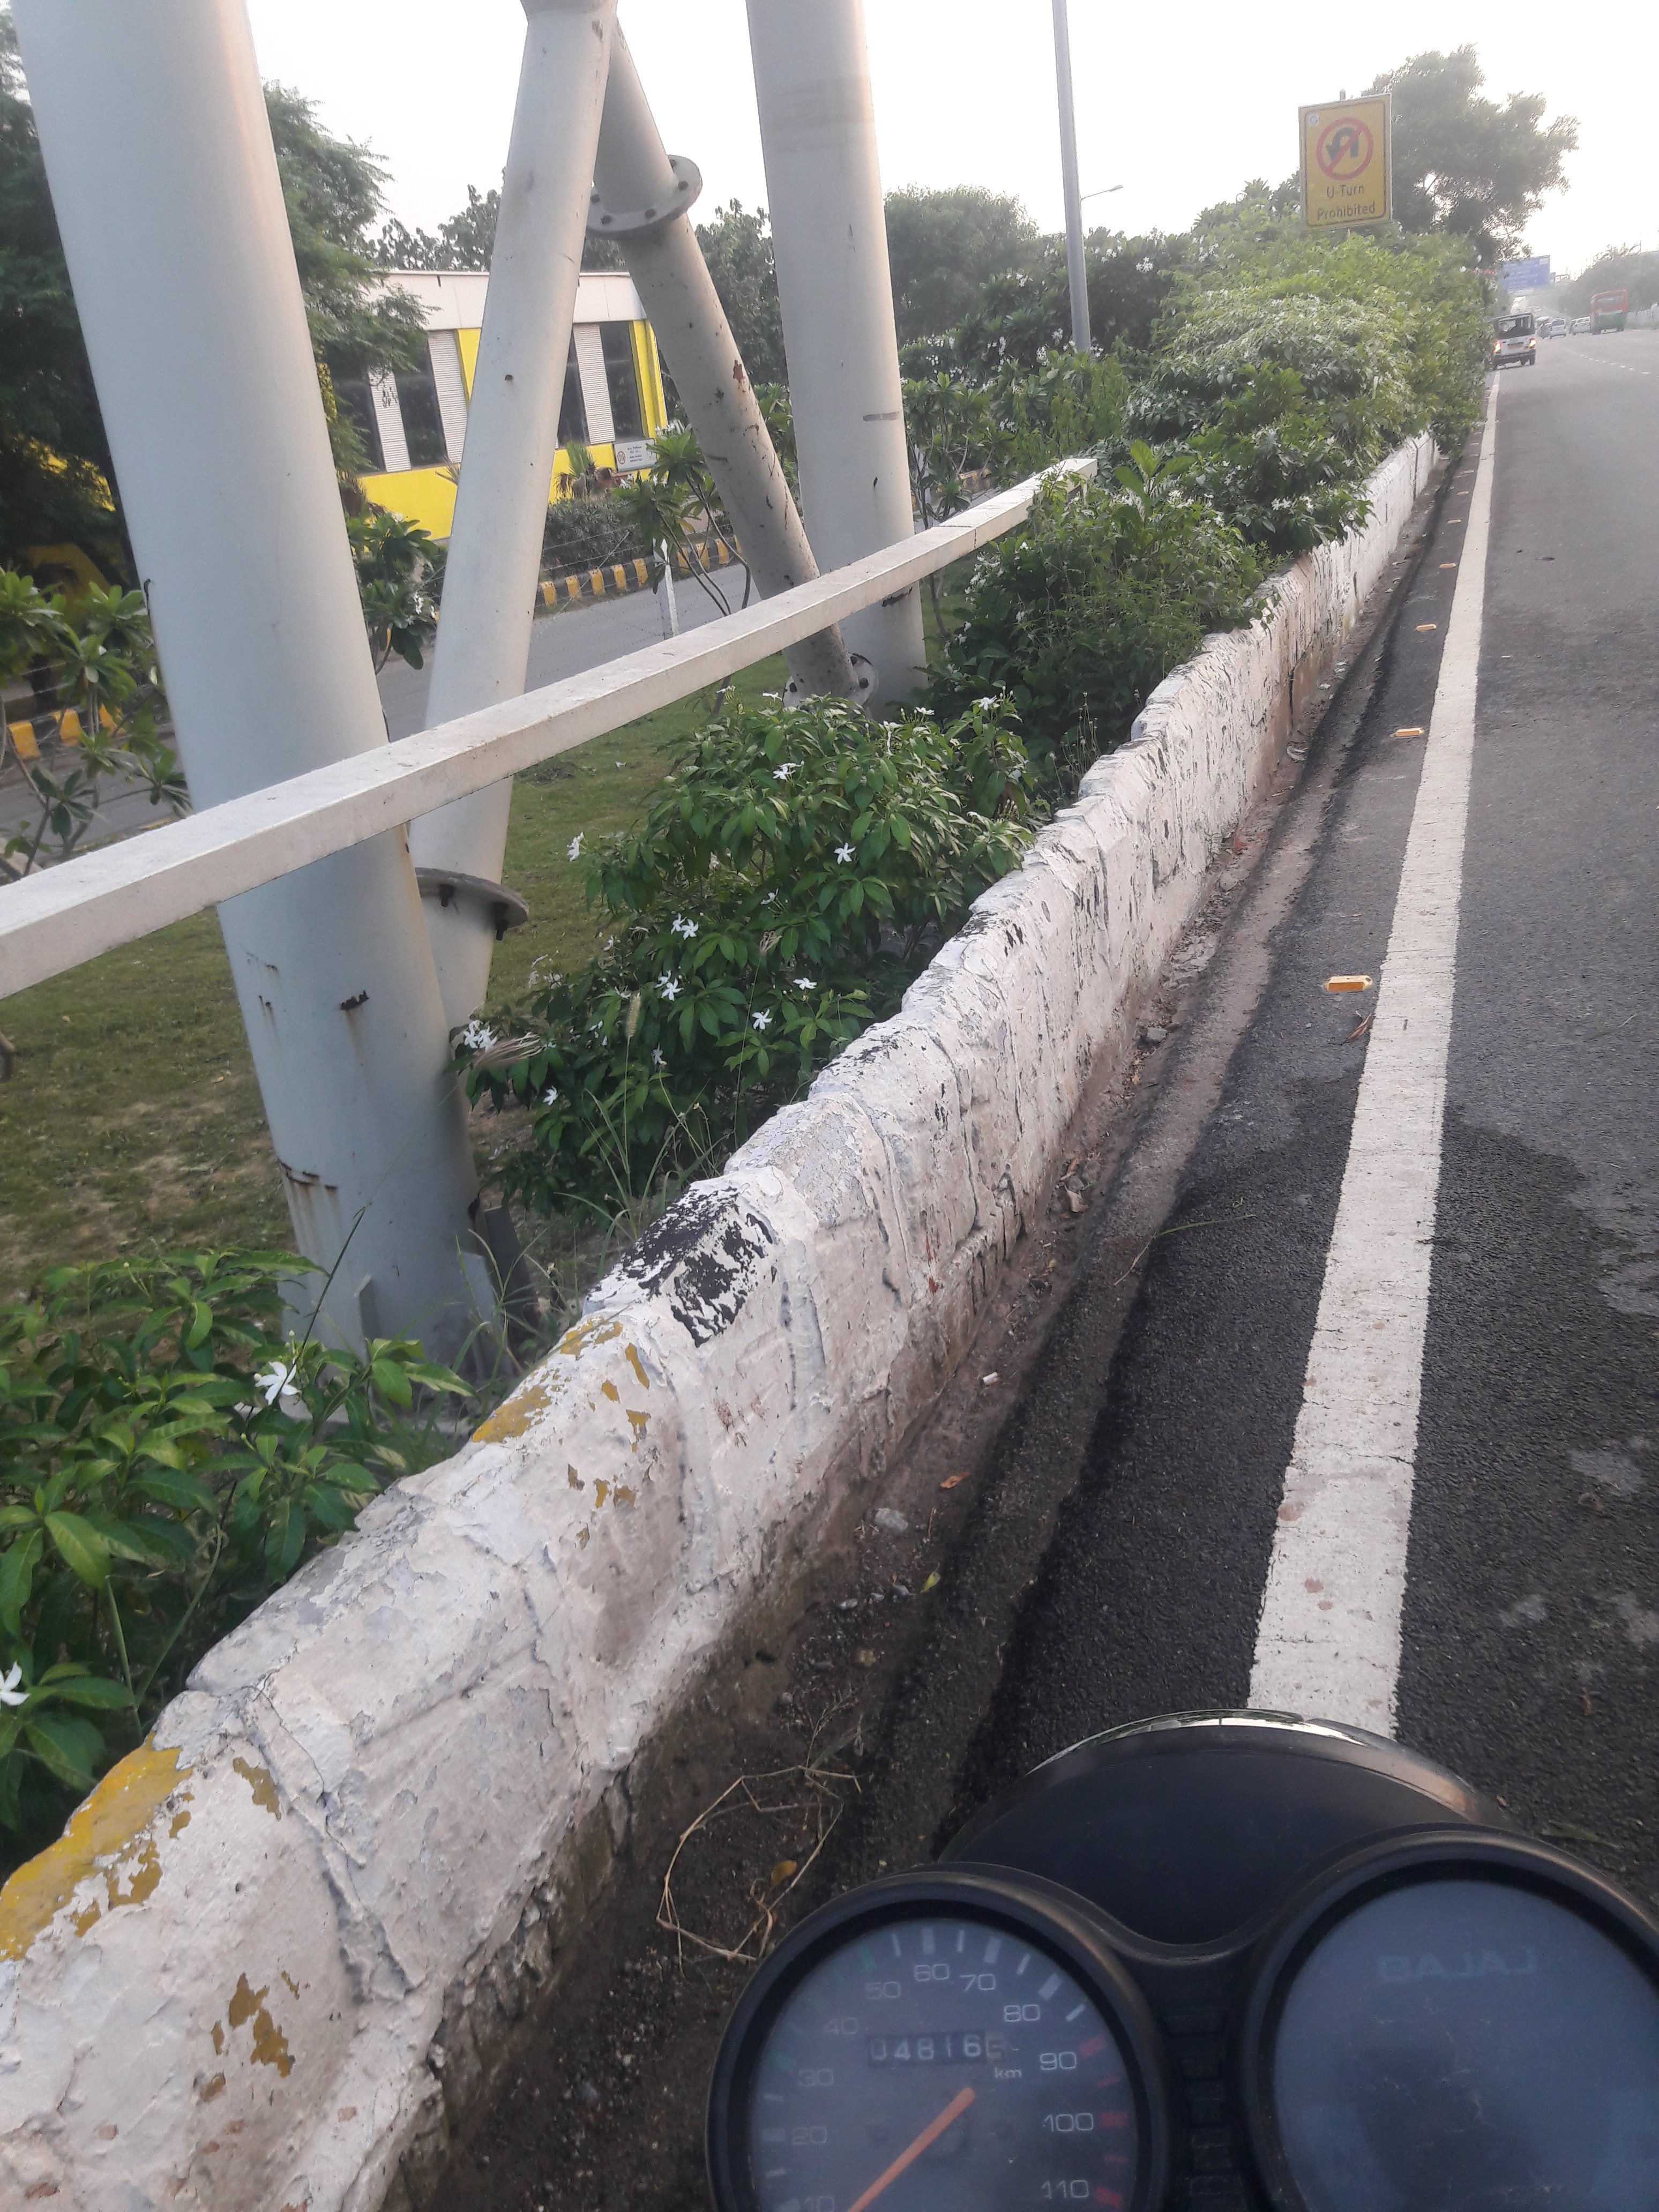traffic_sign: (1298, 92, 1392, 233)
